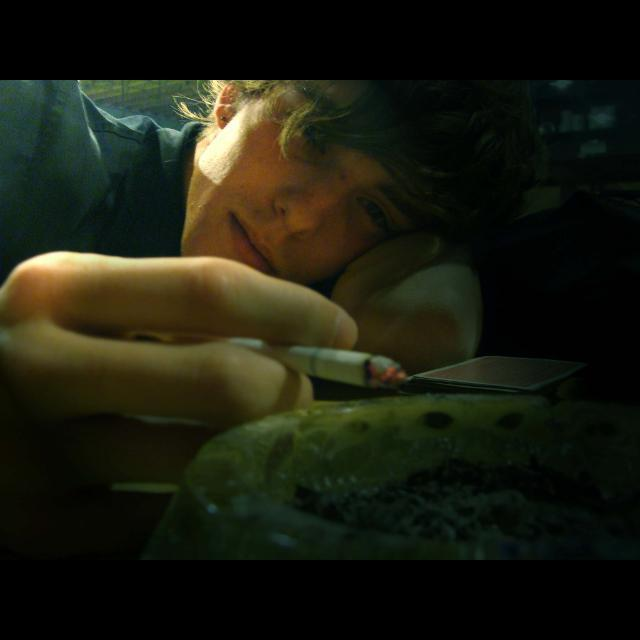rokok: (240, 326, 420, 394)
